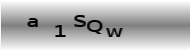1: (52, 24, 67, 38)
Q: (86, 19, 103, 35)
S: (72, 14, 86, 27)
a: (27, 18, 39, 28)
w: (105, 27, 124, 37)
